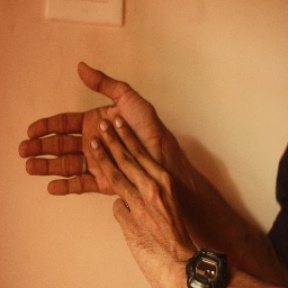M: (16, 57, 177, 223)
